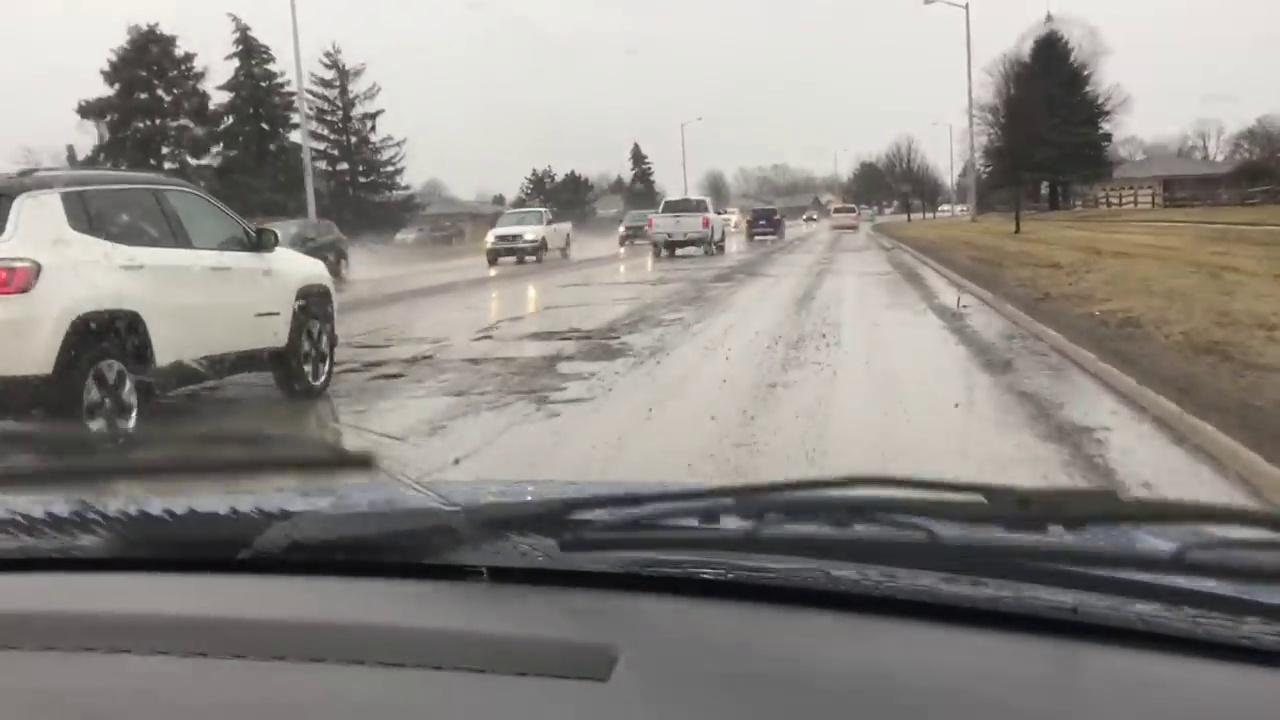pothole: (516, 328, 624, 341), (399, 354, 437, 364), (369, 372, 408, 380), (355, 343, 392, 350), (335, 368, 370, 375), (361, 359, 386, 367), (475, 326, 503, 333), (473, 334, 495, 341)
